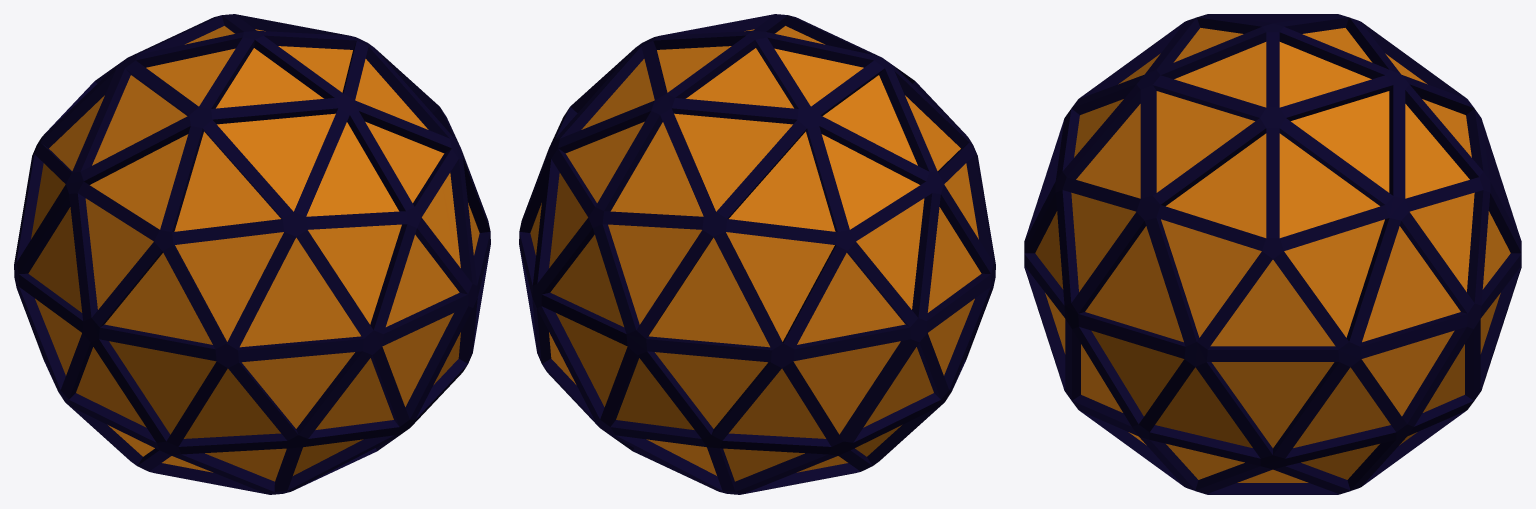
File: OrbExploded.FBX
3 renders of one model, left to right at view 1: azimuth 30°, elevation 25°; view 2: azimuth 150°, elevation 25°; view 3: azimuth 270°, elevation 25°, orthographic. The views are drawn at different scales.
Parts seen in each view (by area): view 1: OrbFragment80, OrbFragment81, OrbFragment20, OrbFragment19, OrbFragment25, OrbFragment03, OrbFragment95, OrbFragment50, OrbFragment47, OrbFragment109, OrbFragment82, OrbFragment76 (+20 smaller); view 2: OrbFragment109, OrbFragment95, OrbFragment110, OrbFragment81, OrbFragment104, OrbFragment35, OrbFragment40, OrbFragment96, OrbFragment67, OrbFragment105, OrbFragment39, OrbFragment17 (+19 smaller); view 3: OrbFragment19, OrbFragment24, OrbFragment35, OrbFragment01, OrbFragment05, OrbFragment39, OrbFragment25, OrbFragment95, OrbFragment12, OrbFragment40, OrbFragment15, OrbFragment34 (+15 smaller).
Boxes of the visible parts, <box> form: OrbFragment80: <box>93,208,331,379</box>; OrbFragment81: <box>84,41,282,208</box>; OrbFragment20: <box>264,125,409,275</box>; OrbFragment19: <box>357,147,488,314</box>; OrbFragment25: <box>273,41,396,147</box>; OrbFragment03: <box>262,348,417,485</box>; OrbFragment95: <box>83,14,277,134</box>; OrbFragment50: <box>102,348,262,448</box>; OrbFragment47: <box>172,379,329,469</box>; OrbFragment109: <box>14,79,98,312</box>; OrbFragment82: <box>59,144,176,257</box>; OrbFragment76: <box>178,143,304,262</box>; OrbFragment109: <box>612,204,952,357</box>; OrbFragment95: <box>624,29,882,206</box>; OrbFragment110: <box>677,351,914,458</box>; OrbFragment81: <box>756,27,951,175</box>; OrbFragment104: <box>609,350,761,478</box>; OrbFragment35: <box>555,31,740,160</box>; OrbFragment40: <box>540,133,621,274</box>; OrbFragment96: <box>718,171,937,224</box>; OrbFragment67: <box>763,335,952,476</box>; OrbFragment105: <box>602,158,716,270</box>; OrbFragment39: <box>524,164,612,309</box>; OrbFragment17: <box>540,337,655,458</box>; OrbFragment19: <box>1029,148,1303,340</box>; OrbFragment24: <box>1112,129,1301,297</box>; OrbFragment35: <box>1253,42,1430,224</box>; OrbFragment01: <box>1043,298,1293,427</box>; OrbFragment05: <box>1119,329,1327,488</box>; OrbFragment39: <box>1311,217,1502,326</box>; OrbFragment25: <box>1122,38,1264,147</box>; OrbFragment95: <box>1252,14,1460,142</box>; OrbFragment12: <box>1293,330,1407,475</box>; OrbFragment40: <box>1356,143,1504,249</box>; OrbFragment15: <box>1358,312,1485,426</box>; OrbFragment34: <box>1256,146,1355,296</box>.
Bounding box in the file's own units: 190 × 197 × 196.
